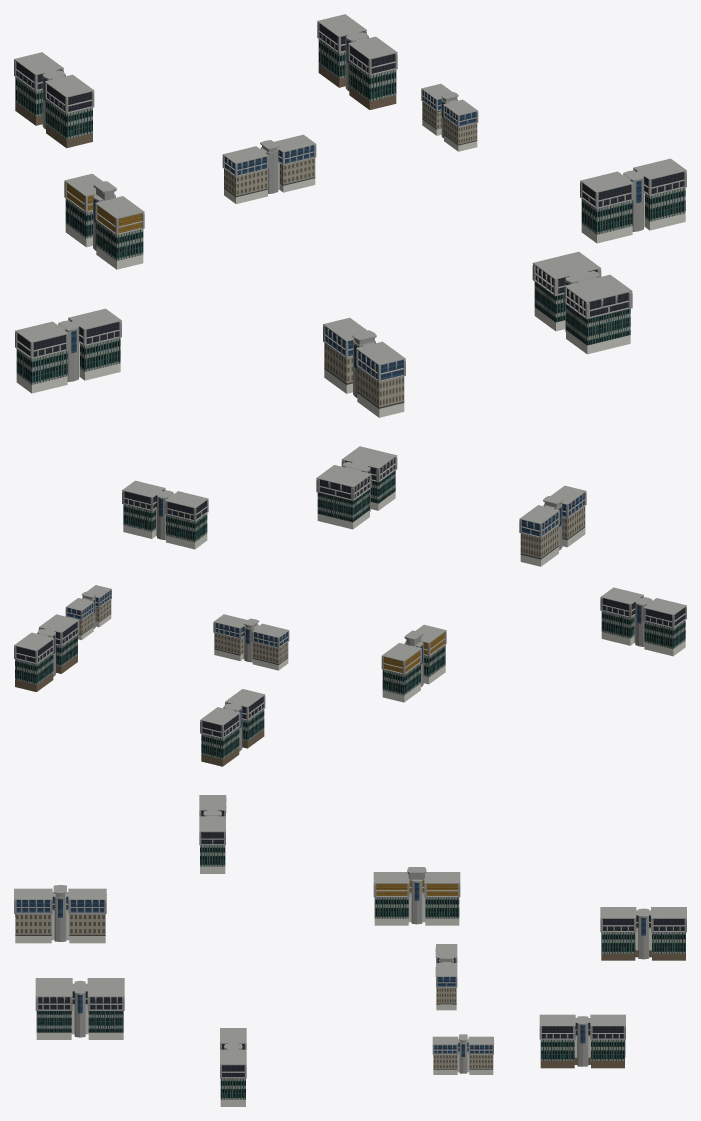
File: Re_Invent_track_building_city_03.dae
3 renders of one model, top to bottom at view 1: azimuth 30°, elevation 25°; view 2: azimuth 150°, elevation 25°; view 3: azimuth 270°, elevation 25°, orthographic. The views are drawn at different scales.
Parts seen in each view (by area): view 1: building_city_03_05, building_city_03_06, building_city_03_09, building_city_03_03, building_city_03_04, building_city_03_07, building_city_03_08, building_city_03_02, building_city_03_01; view 2: building_city_03_05, building_city_03_06, building_city_03_09, building_city_03_03, building_city_03_04, building_city_03_08, building_city_03_07, building_city_03_02, building_city_03_01; view 3: building_city_03_05, building_city_03_03, building_city_03_04, building_city_03_07, building_city_03_08, building_city_03_01, building_city_03_09, building_city_03_06, building_city_03_02.
Boxes of the visible parts, box(x1,y1,x2,y2) form: building_city_03_05: box(532, 251, 632, 354); building_city_03_06: box(580, 158, 686, 243); building_city_03_09: box(15, 308, 121, 393); building_city_03_03: box(323, 317, 405, 417); building_city_03_04: box(64, 173, 144, 269); building_city_03_07: box(317, 14, 397, 109); building_city_03_08: box(14, 52, 94, 148); building_city_03_02: box(222, 134, 316, 204); building_city_03_01: box(421, 83, 478, 151); building_city_03_05: box(316, 446, 397, 529); building_city_03_06: box(122, 480, 208, 549); building_city_03_09: box(600, 587, 686, 656); building_city_03_03: box(519, 485, 586, 566); building_city_03_04: box(381, 624, 446, 702); building_city_03_08: box(200, 689, 265, 766); building_city_03_07: box(14, 614, 79, 691); building_city_03_02: box(213, 614, 289, 670); building_city_03_01: box(65, 585, 111, 640); building_city_03_05: box(35, 978, 124, 1039); building_city_03_03: box(14, 885, 106, 943); building_city_03_04: box(373, 867, 460, 925); building_city_03_07: box(539, 1014, 625, 1068); building_city_03_08: box(600, 907, 686, 960); building_city_03_01: box(432, 1034, 494, 1074); building_city_03_09: box(199, 795, 226, 873); building_city_03_06: box(220, 1028, 246, 1106); building_city_03_02: box(435, 944, 457, 1010).
Size of the model in its own units: 48.74 by 51.41 by 4.28.
8 materials, 8 textured.
